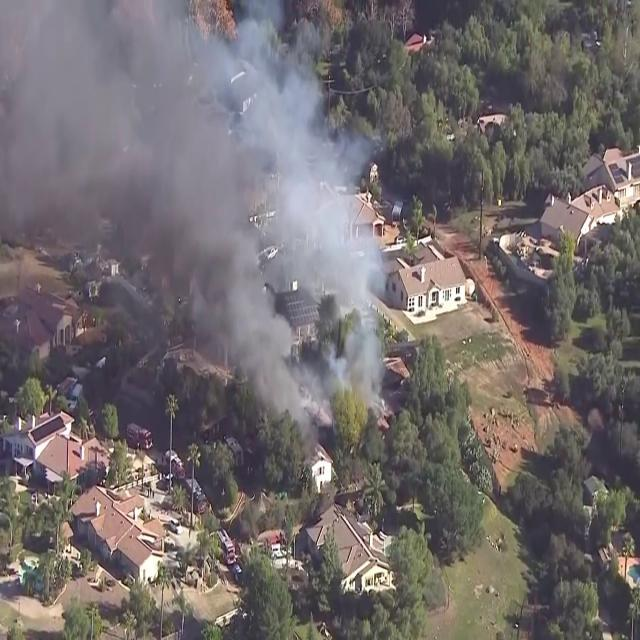Smoke: (0, 0, 391, 447)
